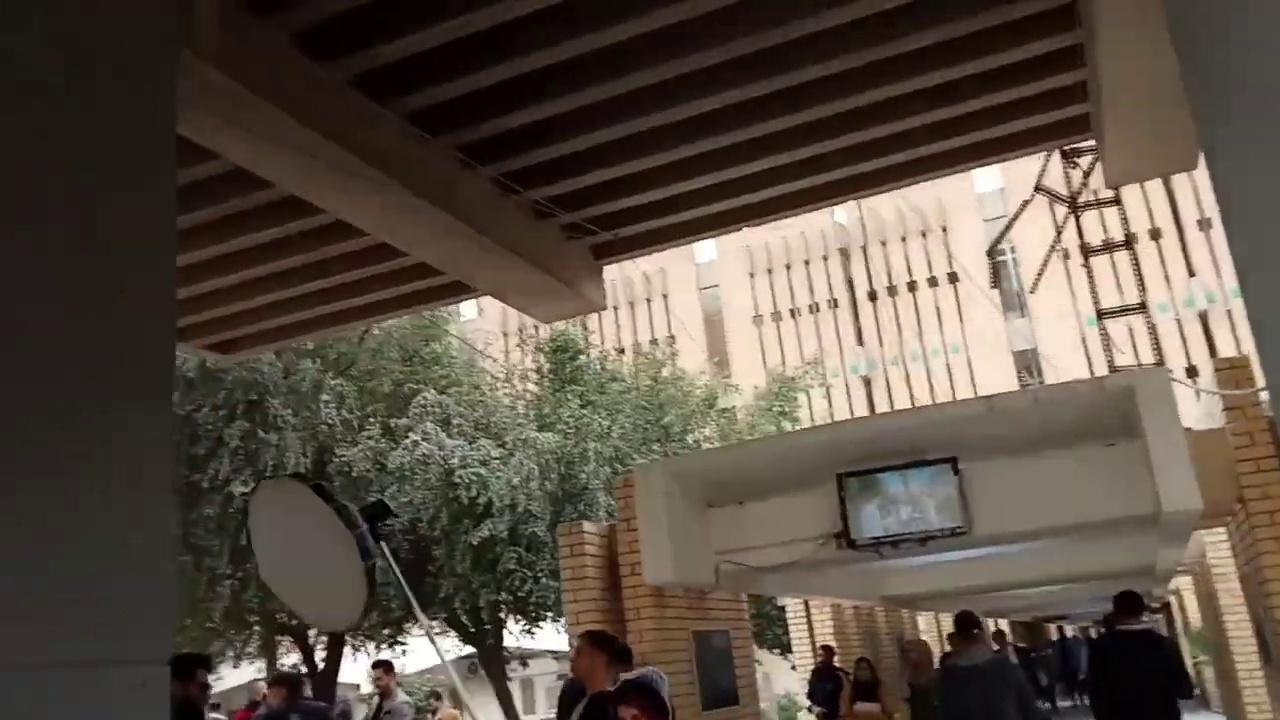person: (1086, 589, 1194, 719), (556, 629, 633, 719), (251, 671, 334, 719), (805, 643, 851, 719), (166, 650, 214, 719), (840, 656, 892, 719), (363, 659, 415, 719), (424, 689, 461, 719)
tree: (171, 304, 826, 717), (170, 311, 484, 711), (329, 314, 565, 718)
